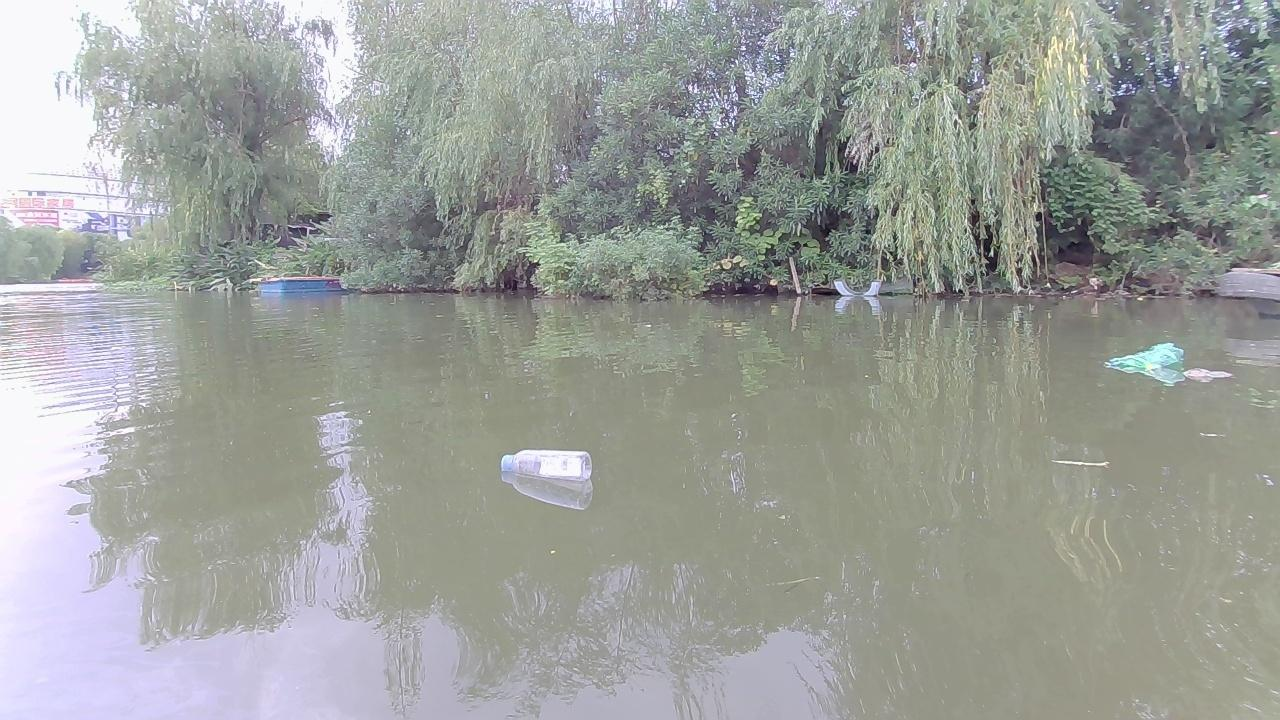bottle: (494, 441, 601, 483), (1099, 336, 1186, 378)
